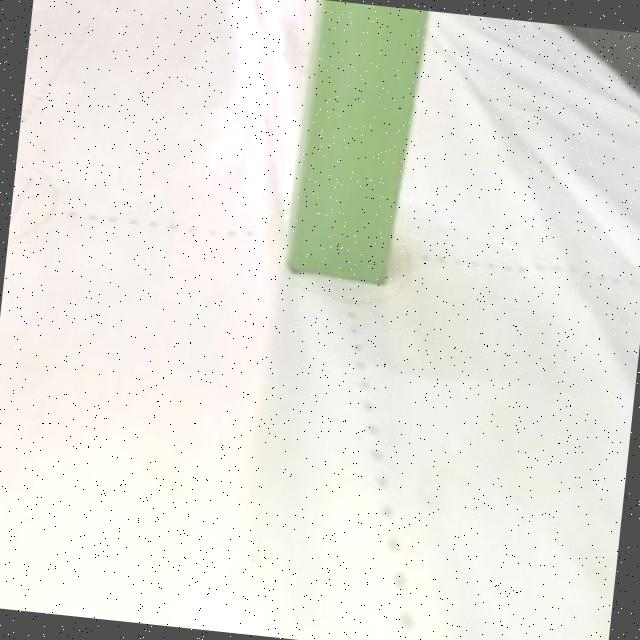greenbox: (283, 0, 426, 283)
